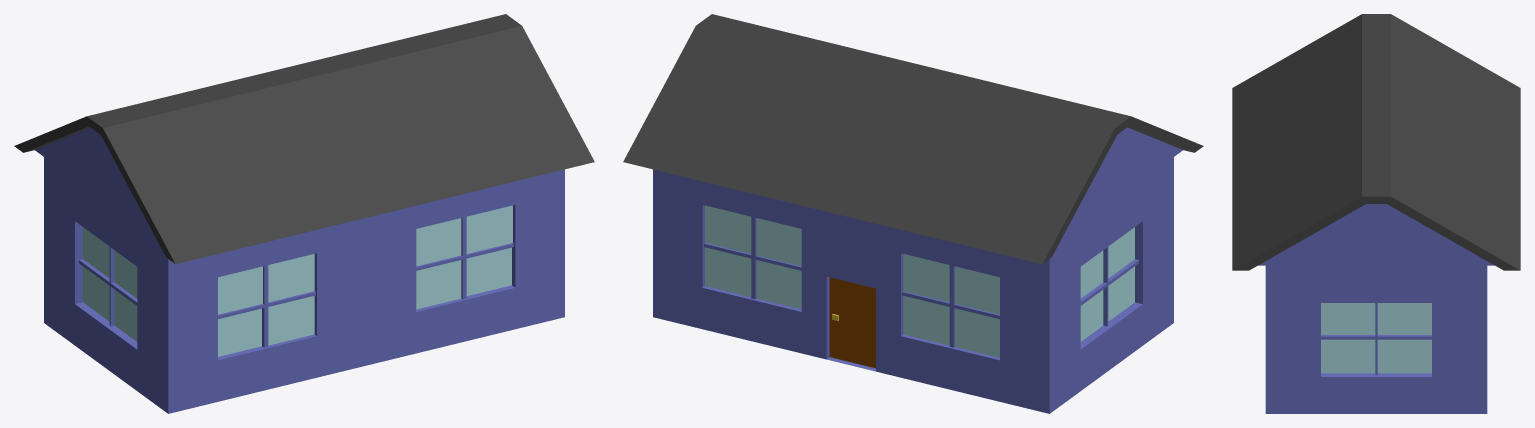
The model's file is House2.gltf.
3 renders of one model, left to right at view 1: azimuth 30°, elevation 25°; view 2: azimuth 150°, elevation 25°; view 3: azimuth 270°, elevation 25°, orthographic. The views are drawn at different scales.
Visible parts, largest first — view 1: Rectangle.001; view 2: Rectangle.001; view 3: Rectangle.001.
Boxes of the visible parts, <box> form: Rectangle.001: <box>14,14,594,413</box>; Rectangle.001: <box>623,14,1203,413</box>; Rectangle.001: <box>1232,14,1520,413</box>.
Size of the model in its own units: 18.5 by 10.5 by 12.35.
